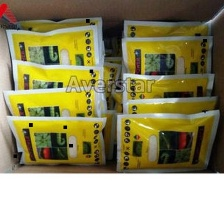insecticide: (112, 108, 221, 176), (0, 84, 105, 153), (119, 70, 218, 140), (1, 111, 108, 171), (8, 57, 106, 118), (2, 23, 101, 82), (117, 35, 214, 95), (120, 96, 221, 147), (9, 14, 105, 63), (119, 16, 216, 64)
